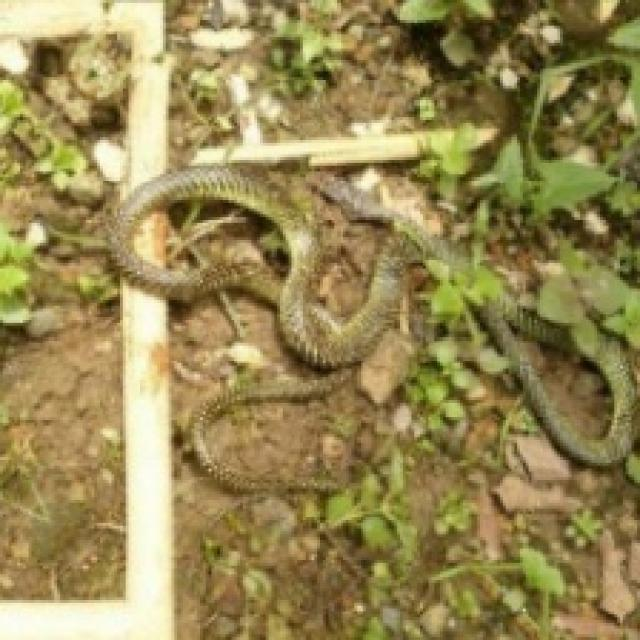paradise tree snake: (111, 169, 634, 463)
